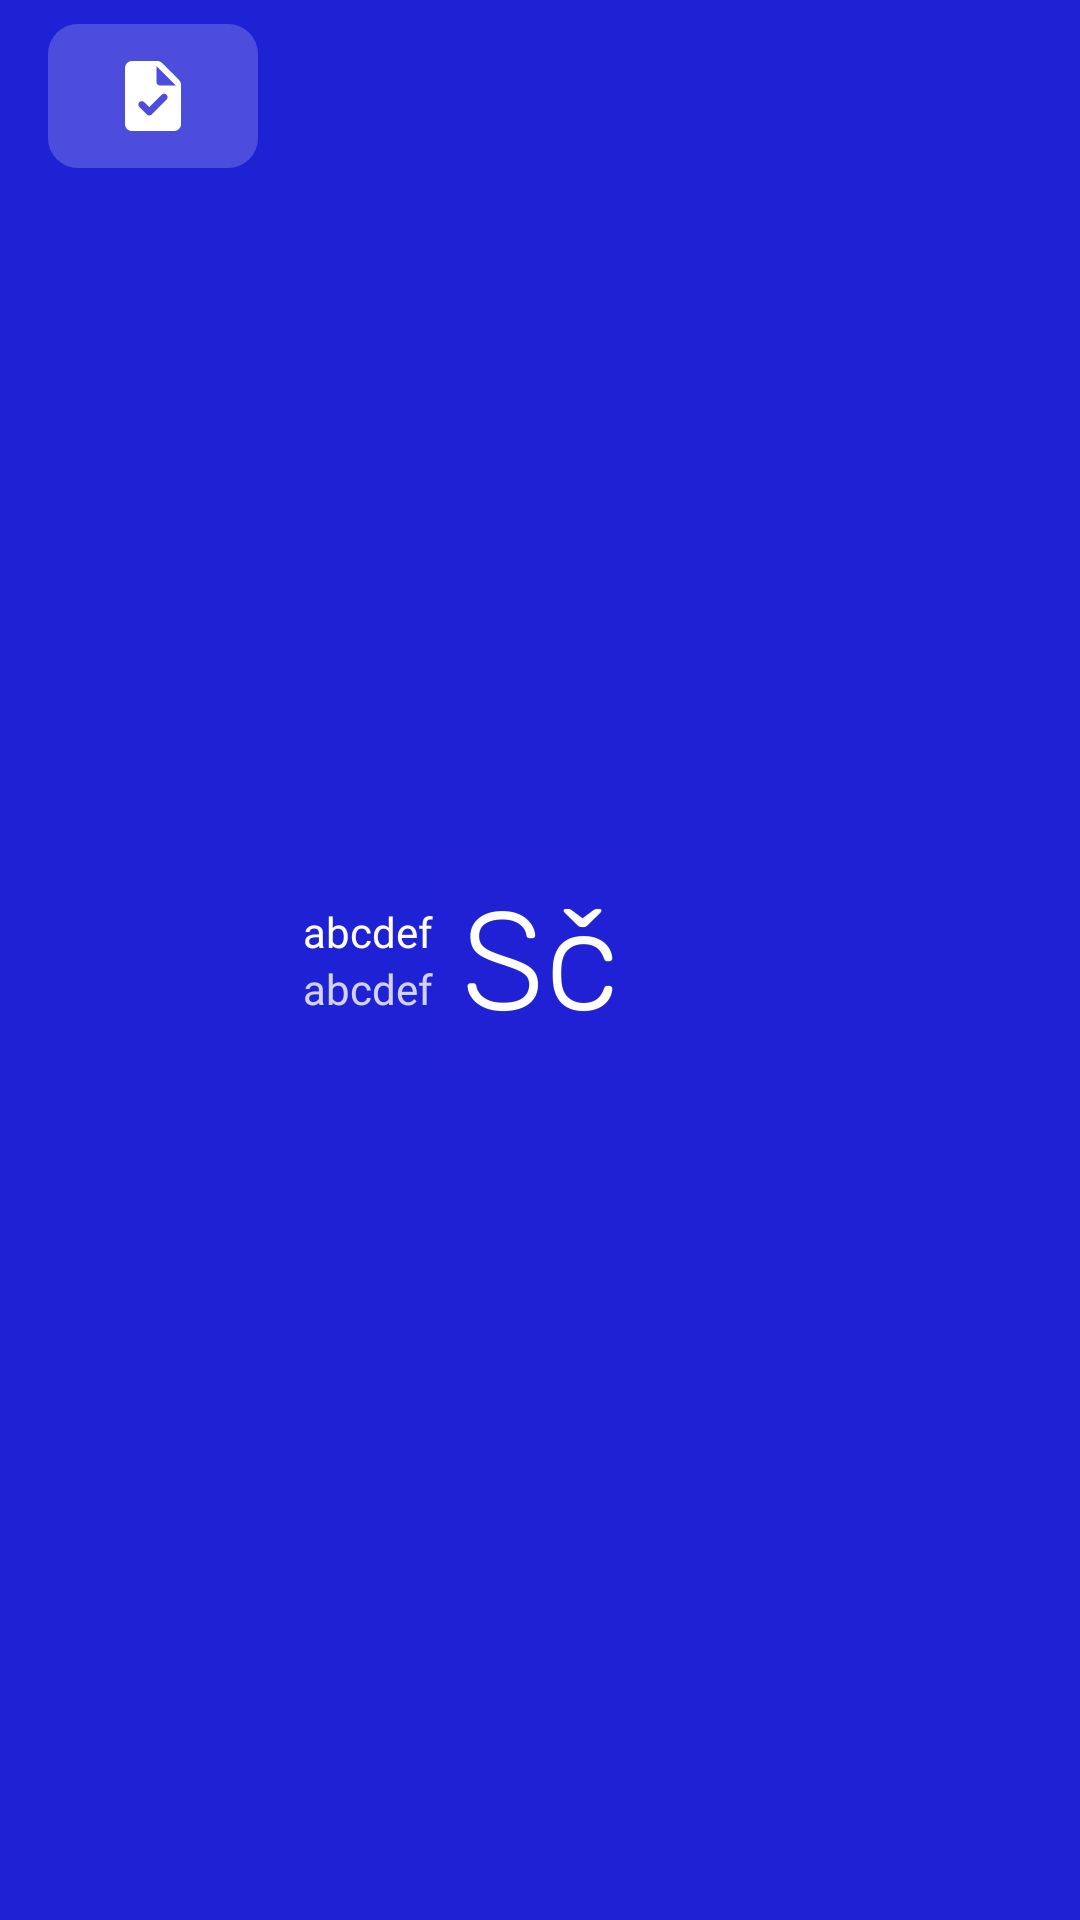

Screen size 1080*1920. Icon name, then its center in pixels as point (x, y):
file: point (153, 96)
